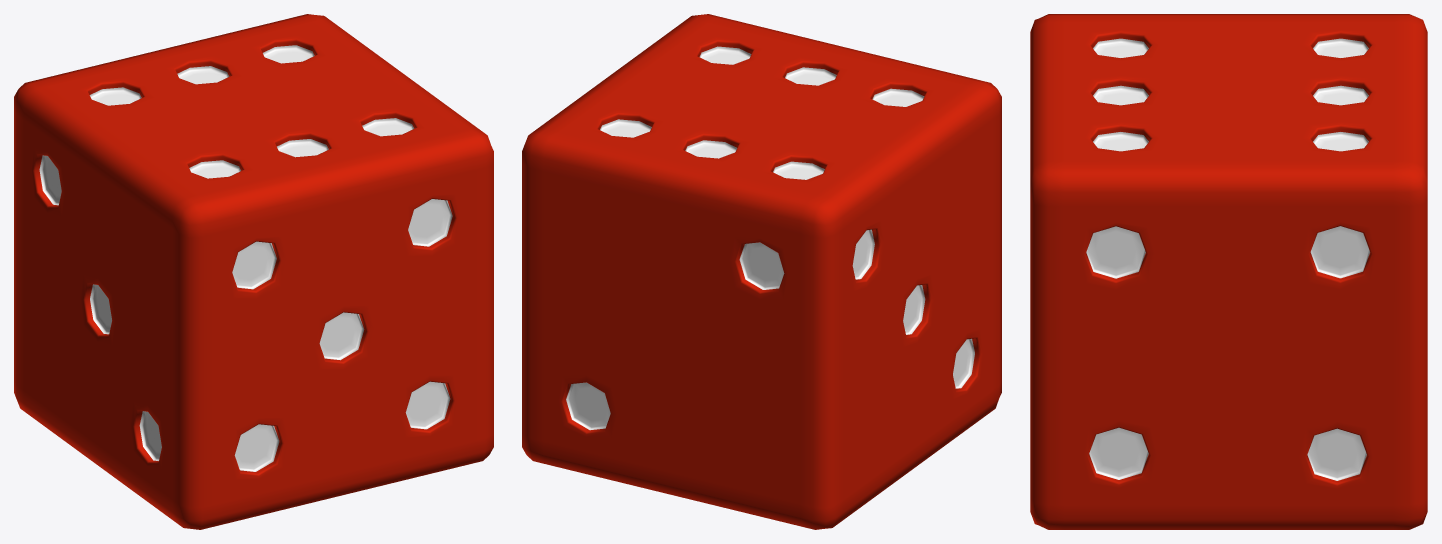
The model's file is dice.obj.
3 renders of one model, left to right at view 1: azimuth 30°, elevation 25°; view 2: azimuth 150°, elevation 25°; view 3: azimuth 270°, elevation 25°, orthographic. The views are drawn at different scales.
Visible parts, largest first — view 1: Dice; view 2: Dice; view 3: Dice.
Boxes of the visible parts, x1=… form: Dice: x1=14, y1=14, x2=493, y2=529; Dice: x1=522, y1=14, x2=1001, y2=529; Dice: x1=1030, y1=14, x2=1427, y2=529.
Size of the model in its own units: 10 by 10 by 10.
